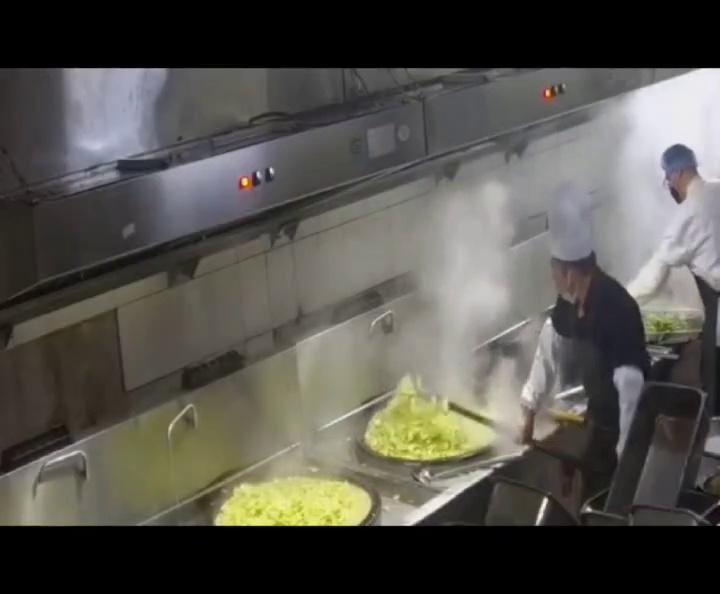mask: (548, 262, 580, 308)
